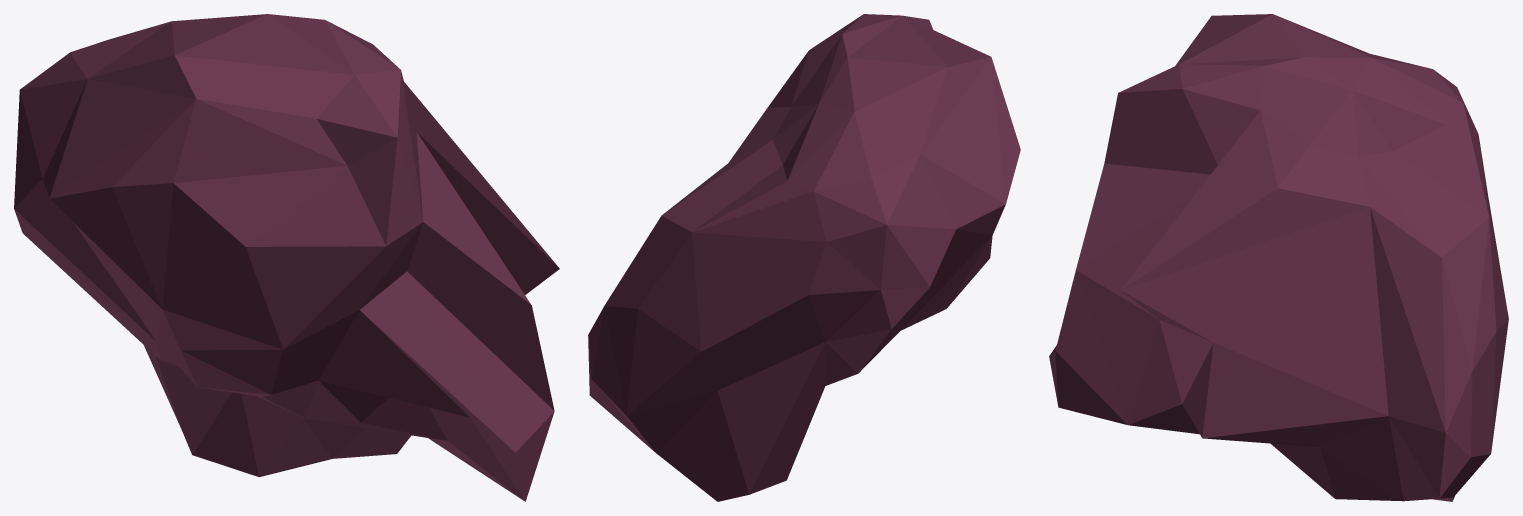
The model's file is asteroid2.fbx.
3 views of the same model, side by side, from view 1: azimuth 30°, elevation 25°; view 2: azimuth 150°, elevation 25°; view 3: azimuth 270°, elevation 25° (orthographic). The views are drawn at different scales.
Visible parts, largest first — view 1: Asteroid2; view 2: Asteroid2; view 3: Asteroid2.
Boxes of the visible parts, box(x1,y1,x2,y2) form: Asteroid2: box(14, 14, 559, 501); Asteroid2: box(588, 14, 1020, 501); Asteroid2: box(1049, 14, 1508, 501).
Size of the model in its own units: 252 by 278 by 276.
